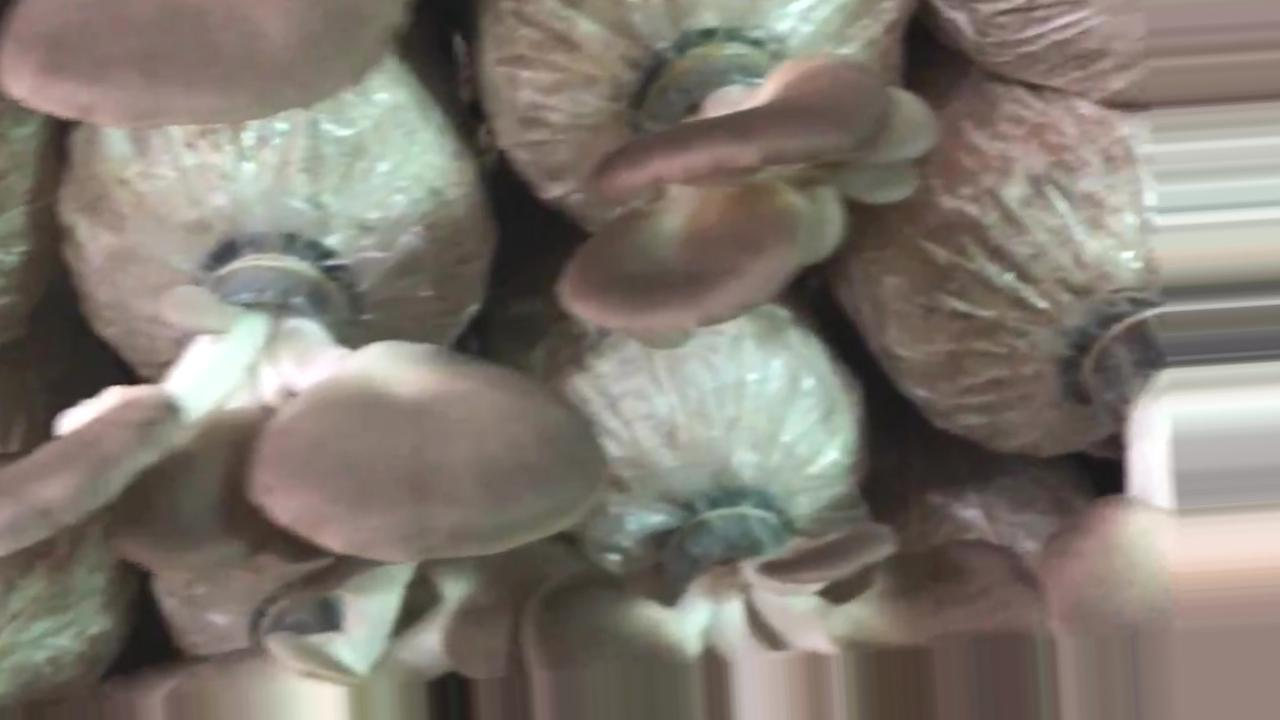nam: (1, 224, 609, 560), (556, 24, 939, 355), (516, 492, 1049, 664), (1, 3, 406, 131)
